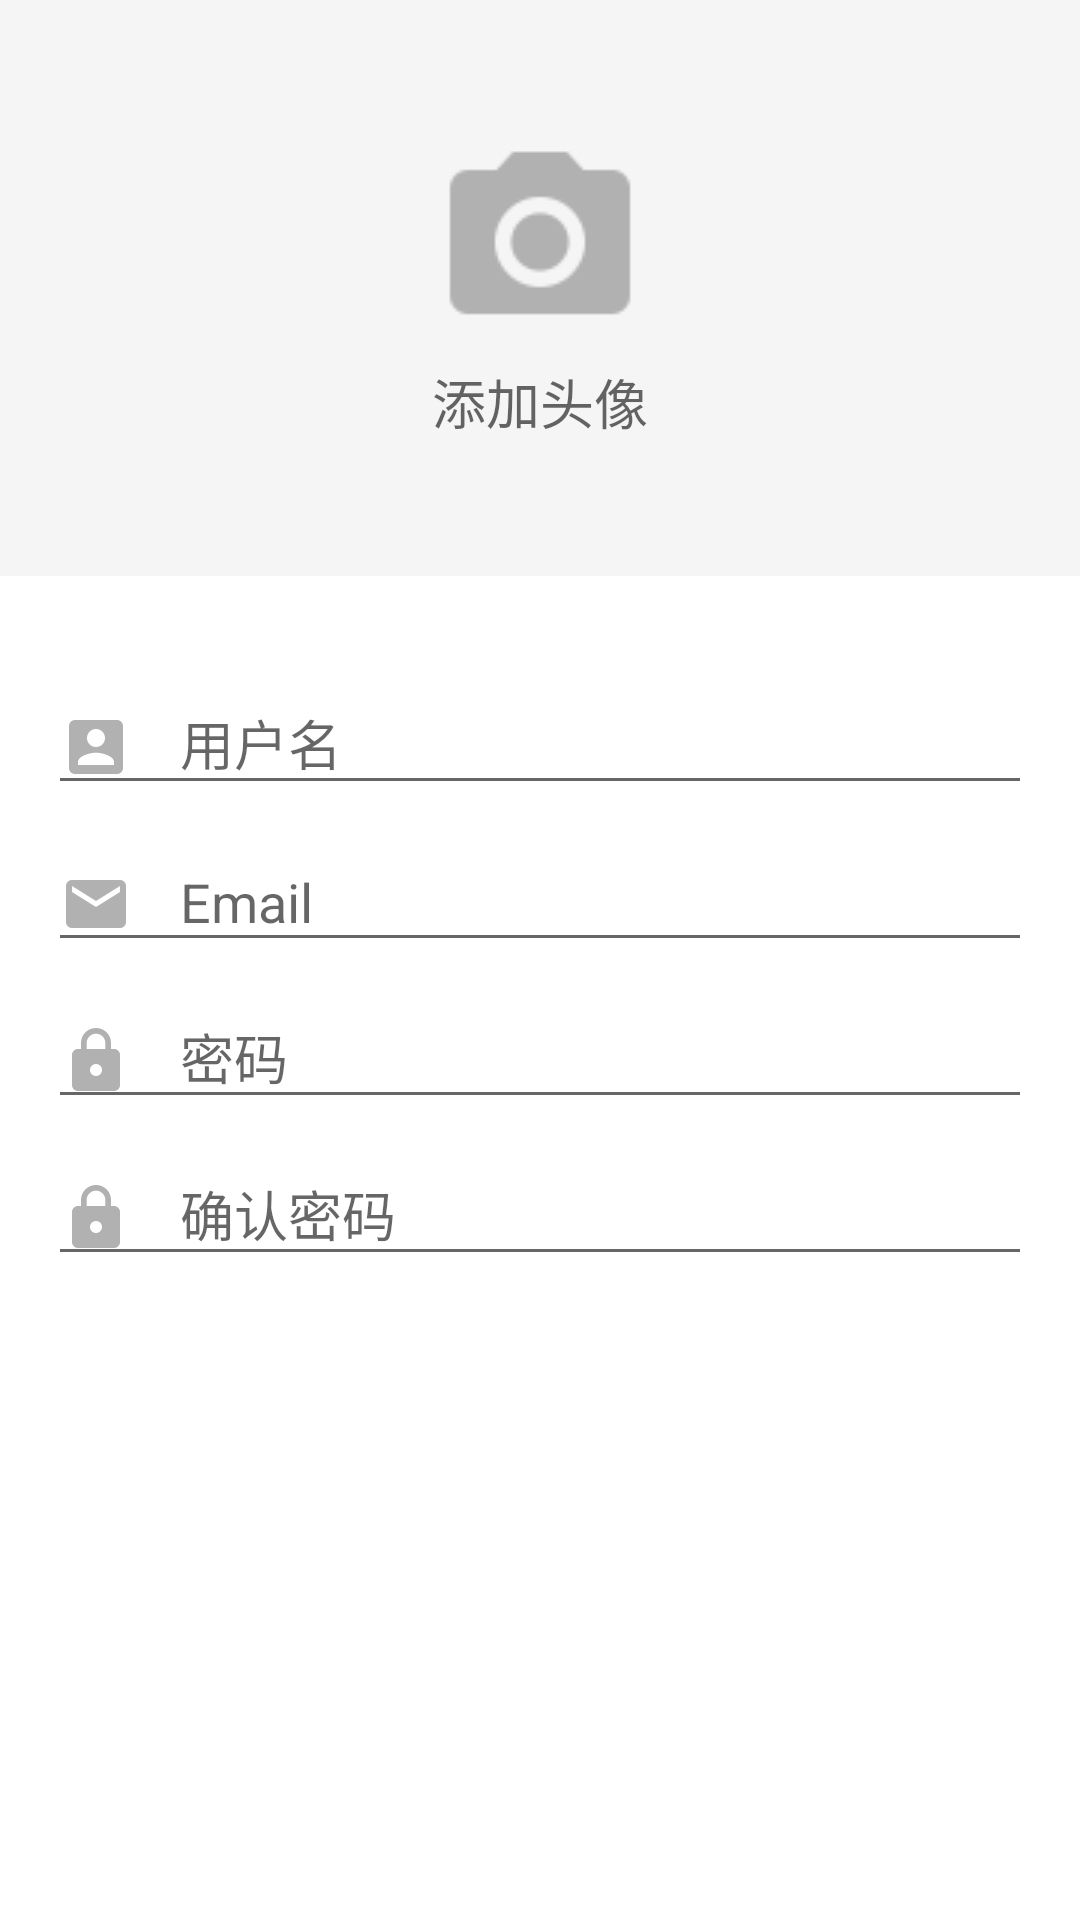

Point at icon controls on the screen. Image size 1080px×1920px, points as point (x, y).
photo camera: point (540, 233)
